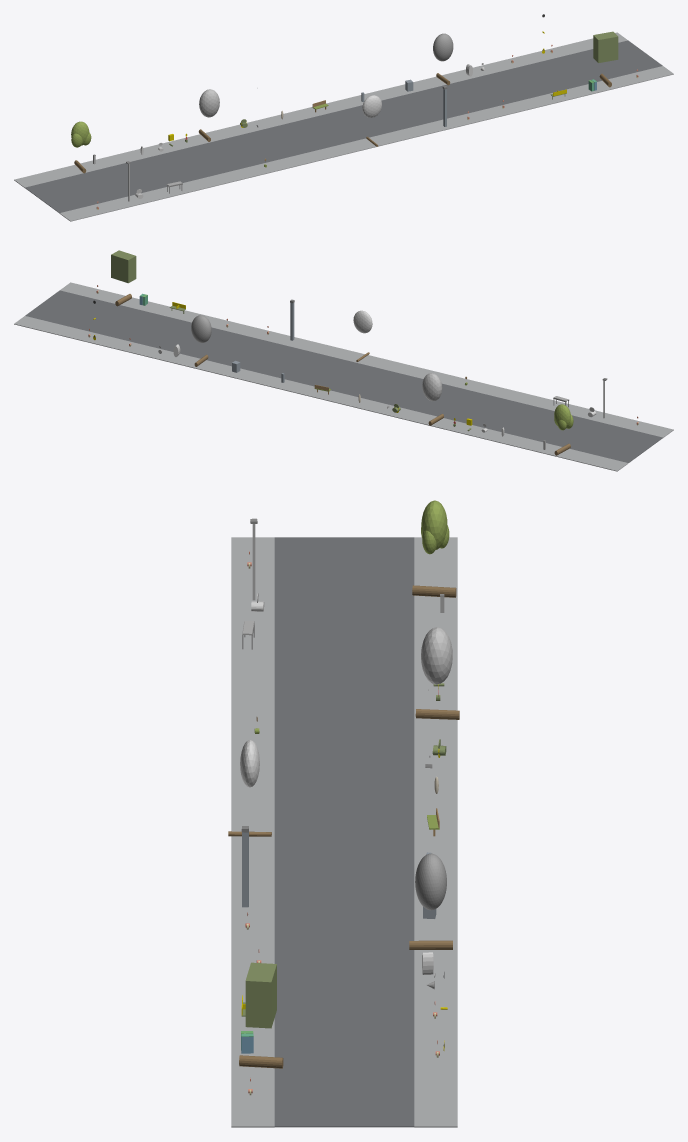
3 views of the same model, one above another, from view 1: azimuth 30°, elevation 25°; view 2: azimuth 150°, elevation 25°; view 3: azimuth 270°, elevation 25° (orthographic). The views are drawn at different scales.
Visible parts, largest first — view 1: road_slab, sidewalk_left, sidewalk_right, inst_0016, inst_0013, inst_0015, inst_0012, inst_0014; view 2: road_slab, sidewalk_right, sidewalk_left, inst_0016, inst_0015, inst_0013, inst_0012, inst_0014; view 3: road_slab, sidewalk_left, sidewalk_right, inst_0016, inst_0013, inst_0015, inst_0012, inst_0014.
Part boxes in pixels (box(x1,y1,x2,y2)): road_slab: box(25, 40, 662, 213); sidewalk_left: box(59, 66, 673, 221); sidewalk_right: box(14, 32, 627, 187); inst_0016: box(593, 31, 618, 87); inst_0013: box(198, 89, 219, 141); inst_0015: box(433, 33, 453, 85); inst_0012: box(71, 121, 91, 173); inst_0014: box(362, 95, 381, 146); road_slab: box(25, 290, 662, 462); sidewalk_right: box(14, 316, 628, 471); sidewalk_left: box(60, 282, 673, 437); inst_0016: box(111, 250, 136, 306); inst_0015: box(191, 315, 211, 366); inst_0013: box(422, 373, 443, 425); inst_0012: box(554, 404, 573, 455); inst_0014: box(353, 310, 372, 361); road_slab: box(274, 537, 414, 1127); sidewalk_left: box(231, 537, 274, 1127); sidewalk_right: box(414, 537, 457, 1127); inst_0016: box(239, 962, 283, 1068); inst_0013: box(415, 627, 459, 719); inst_0015: box(409, 853, 452, 949); inst_0012: box(412, 500, 456, 597); inst_0014: box(228, 740, 271, 836).
Bounding box in the file's own units: 80 × 6.08 × 13.3.
